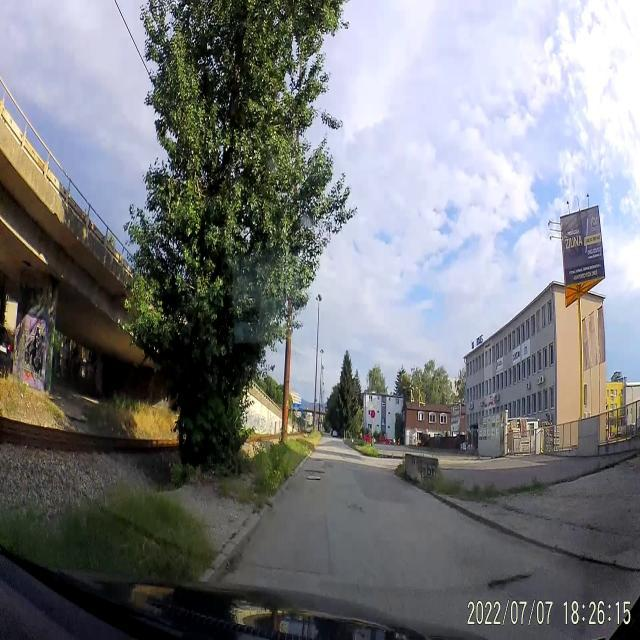Pothole: (480, 567, 531, 597), (304, 466, 328, 476), (348, 504, 366, 516), (313, 456, 324, 464)
